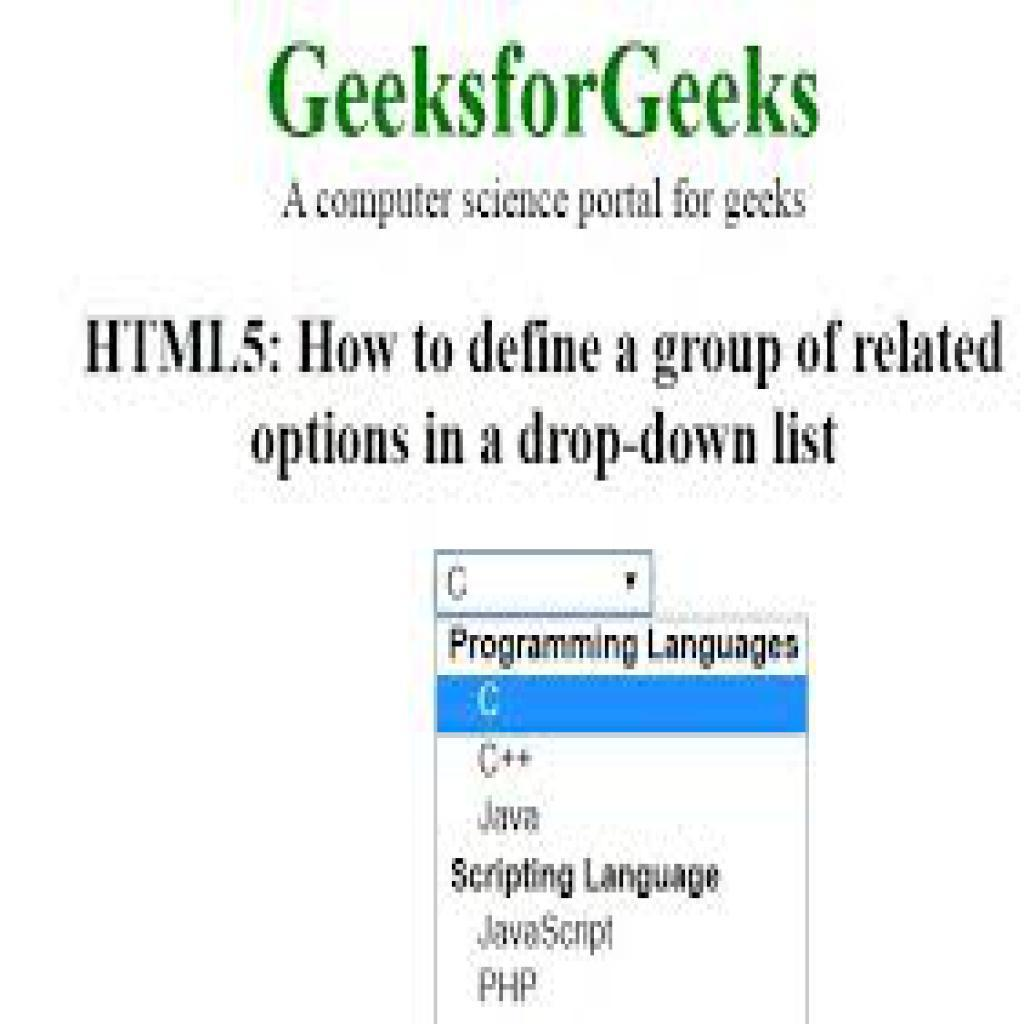dropdown: (435, 551, 651, 620)
